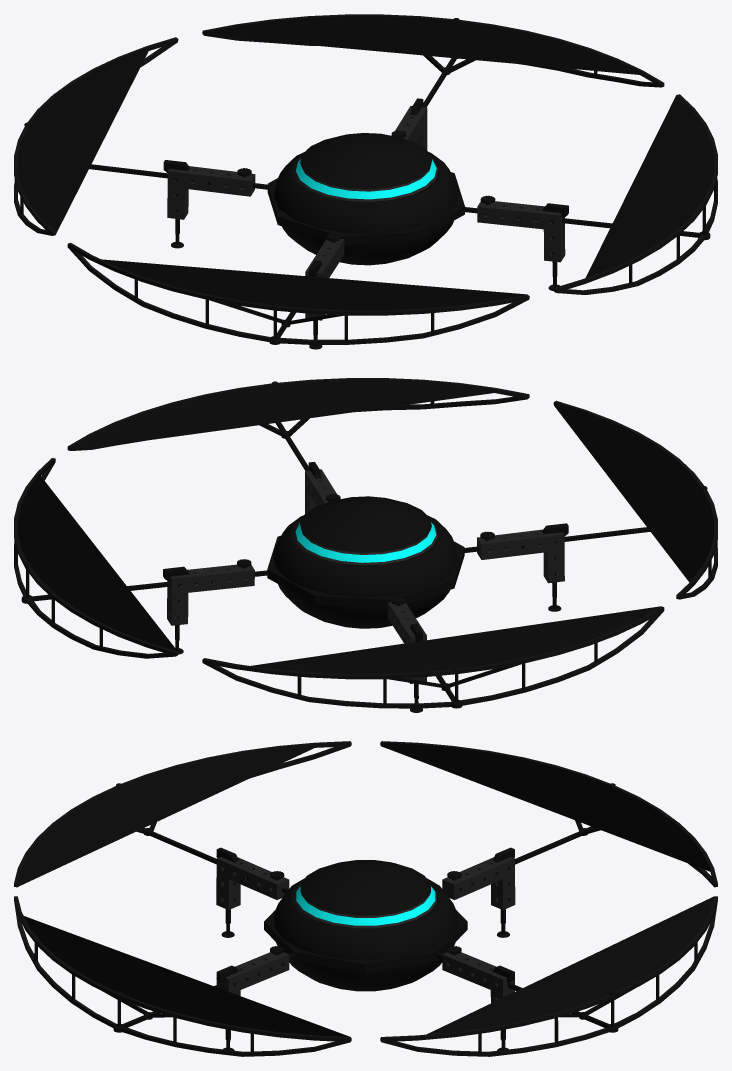
The model's file is textured_circular_drone_sans_propellers.obj.
3 views of the same model, one above another, from view 1: azimuth 30°, elevation 25°; view 2: azimuth 150°, elevation 25°; view 3: azimuth 270°, elevation 25° (orthographic).
Parts seen in each view (by area): view 1: polySurface341 polySurface565, polySurface341 polySurface479, polySurface341 polySurface467, polySurface341 polySurface569, polySurface341 polySurface581, polySurface341 polySurface466, polySurface341 polySurface563, polySurface341 polySurface580, polySurface341 polySurface478, polySurface341 polySurface568; view 2: polySurface341 polySurface565, polySurface341 polySurface581, polySurface341 polySurface569, polySurface341 polySurface467, polySurface341 polySurface479, polySurface341 polySurface568, polySurface341 polySurface563, polySurface341 polySurface478, polySurface341 polySurface580; view 3: polySurface341 polySurface565, polySurface341 polySurface569, polySurface341 polySurface467, polySurface341 polySurface479, polySurface341 polySurface581, polySurface341 polySurface563, polySurface341 polySurface580, polySurface341 polySurface478.
Boxes of the visible parts, box(x1,y1,x2,y2) form: polySurface341 polySurface565: box(273, 133, 458, 265); polySurface341 polySurface479: box(202, 14, 664, 86); polySurface341 polySurface467: box(67, 242, 529, 315); polySurface341 polySurface569: box(14, 37, 177, 235); polySurface341 polySurface581: box(554, 94, 717, 292); polySurface341 polySurface466: box(68, 247, 529, 344); polySurface341 polySurface563: box(267, 172, 464, 244); polySurface341 polySurface580: box(553, 179, 717, 294); polySurface341 polySurface478: box(202, 32, 664, 87); polySurface341 polySurface568: box(14, 39, 178, 235); polySurface341 polySurface565: box(273, 496, 458, 628); polySurface341 polySurface581: box(67, 378, 529, 450); polySurface341 polySurface569: box(202, 606, 663, 679); polySurface341 polySurface467: box(554, 400, 717, 598); polySurface341 polySurface479: box(14, 458, 178, 655); polySurface341 polySurface568: box(202, 608, 664, 708); polySurface341 polySurface563: box(267, 535, 464, 608); polySurface341 polySurface478: box(14, 463, 178, 658); polySurface341 polySurface580: box(67, 396, 529, 450); polySurface341 polySurface565: box(274, 860, 457, 991); polySurface341 polySurface569: box(380, 741, 717, 885); polySurface341 polySurface467: box(14, 741, 351, 886); polySurface341 polySurface479: box(380, 896, 717, 1041); polySurface341 polySurface581: box(14, 896, 351, 1041); polySurface341 polySurface563: box(264, 910, 467, 972); polySurface341 polySurface580: box(14, 902, 351, 1056); polySurface341 polySurface478: box(380, 898, 717, 1056).
Size of the model in its own units: 108 by 20.39 by 108.
